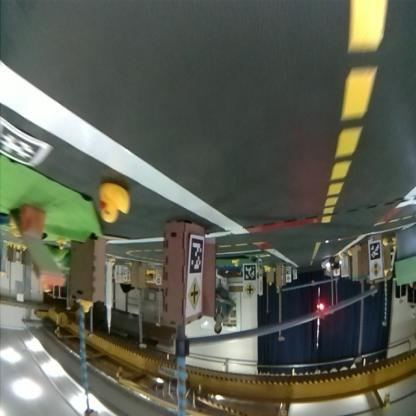Duckie: (100, 184, 128, 221), (82, 304, 93, 312)
Intersection sign: (188, 280, 202, 310), (245, 282, 255, 298)
QR code: (2, 118, 52, 168), (190, 241, 206, 275), (244, 264, 256, 280), (370, 244, 382, 258)
Signal sign: (370, 262, 382, 278)
Traffic light: (318, 304, 326, 318)
